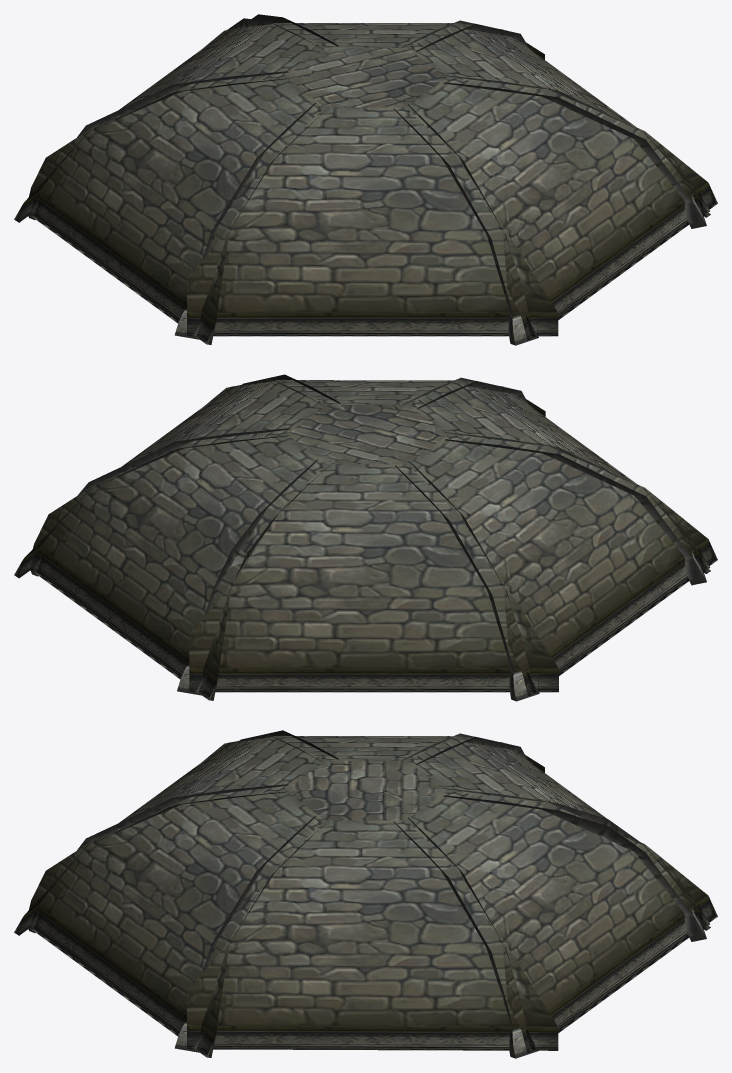
3 views of the same model, one above another, from view 1: azimuth 30°, elevation 25°; view 2: azimuth 150°, elevation 25°; view 3: azimuth 270°, elevation 25° (orthographic).
Visible parts, largest first — view 1: DN_1_4_dt01c; view 2: DN_1_4_dt01c; view 3: DN_1_4_dt01c.
Boxes of the visible parts, x1,y1,x2,y2 form: DN_1_4_dt01c: (14, 14, 717, 345); DN_1_4_dt01c: (14, 374, 717, 701); DN_1_4_dt01c: (14, 730, 717, 1058).
Size of the model in its own units: 1049 by 264 by 1175.
Materials: 1 (1 with a texture image).
